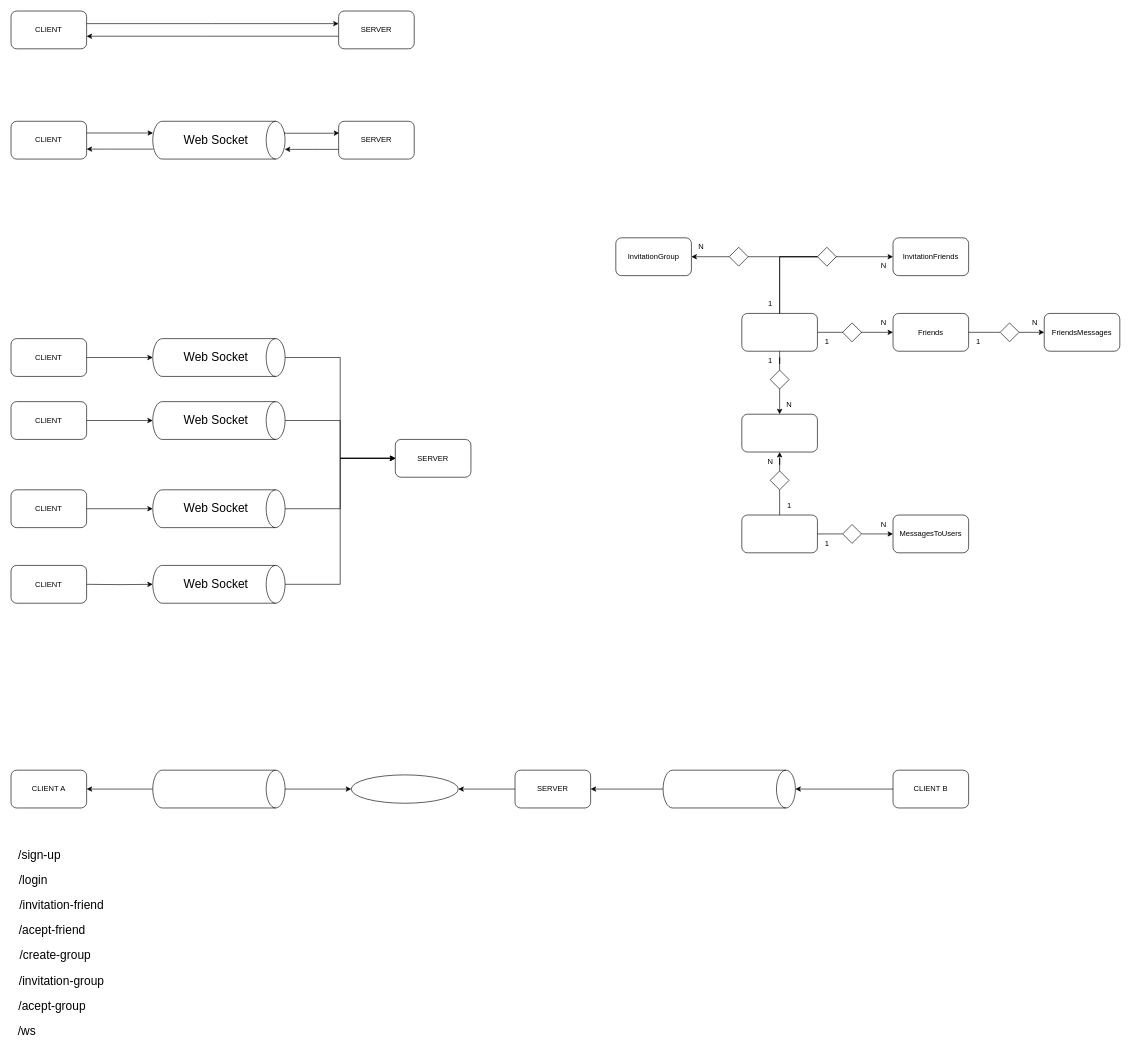
Some shapes in this 1131 by 1055 pixel diagram are drawn without their labels. Here are the shapes that lost their labels. From the top down, the centre of each, then its label:
At (x=779, y=332): "User".
At (x=779, y=433): "UserChatGroup".
At (x=779, y=533): "ChatGroup".
At (x=218, y=789): "Web Socket A".
At (x=404, y=788): "event: message".
At (x=728, y=789): "Web Socket B".
